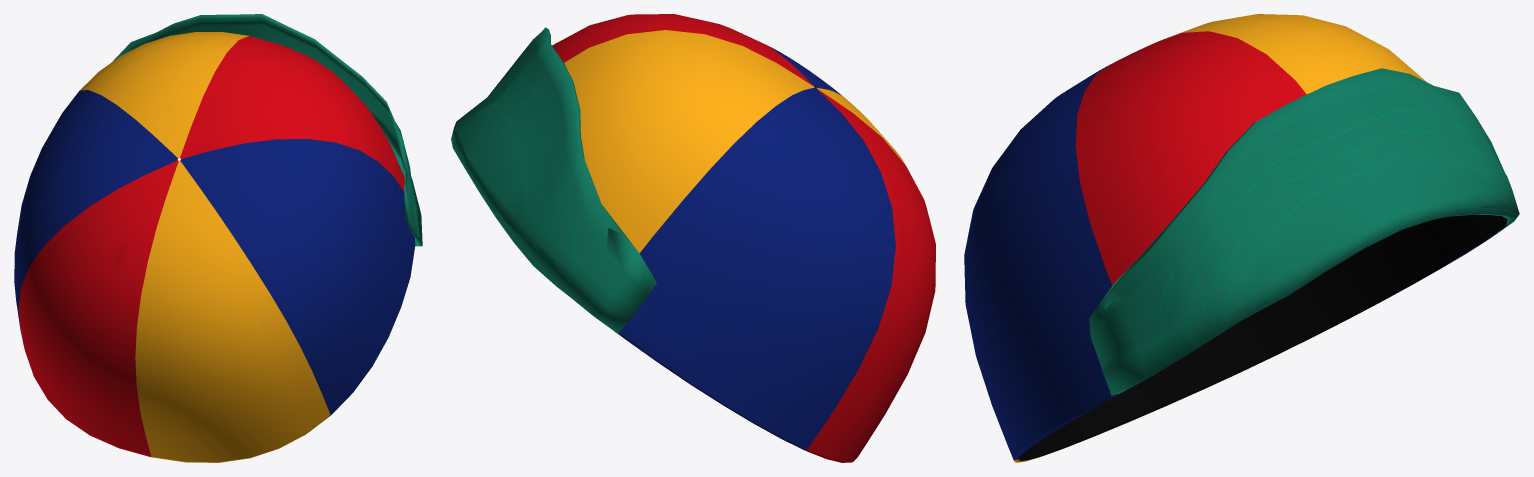
The model's file is Don_Ramon_Gorra.obj.
3 views of the same model, side by side, from view 1: azimuth 30°, elevation 25°; view 2: azimuth 150°, elevation 25°; view 3: azimuth 270°, elevation 25° (orthographic). The views are drawn at different scales.
Parts seen in each view (by area): view 1: Quicoo; view 2: Quicoo; view 3: Quicoo.
Part boxes in pixels (box(x1,y1,x2,y2)): Quicoo: box(14, 14, 422, 462); Quicoo: box(451, 14, 935, 462); Quicoo: box(964, 14, 1519, 462).
Bounding box in the file's own units: 0.9376 × 0.8493 × 0.9237.
3 materials, 3 textured.
